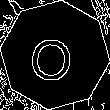O_N: (31, 27, 79, 83)
